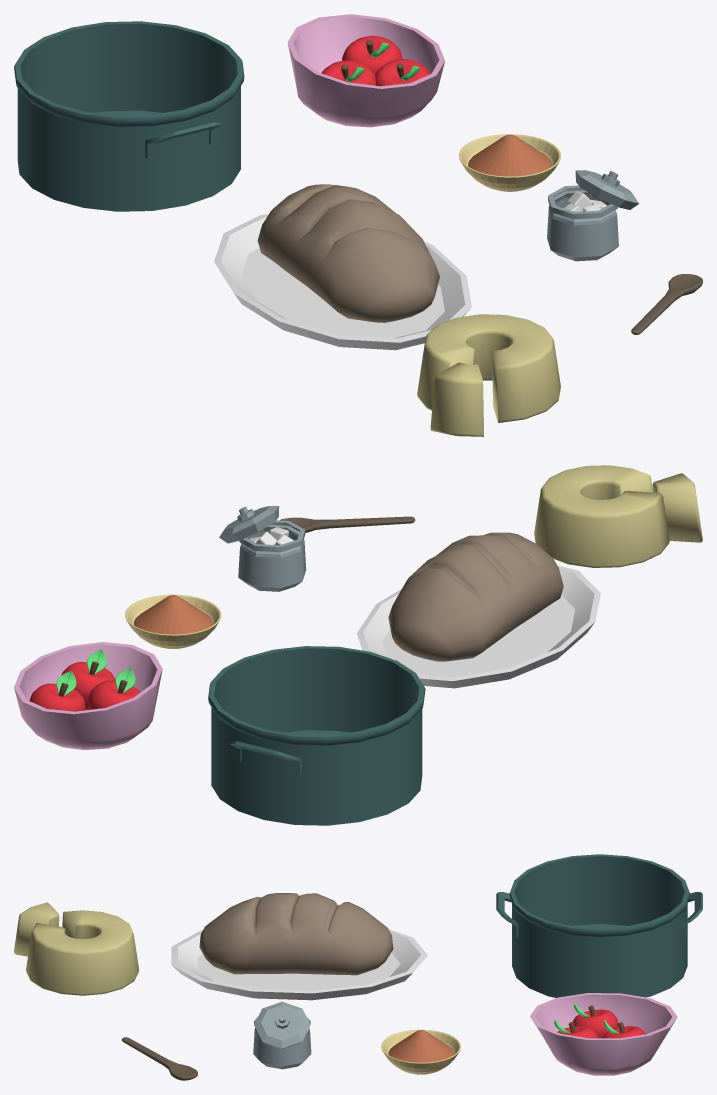
File: Apple_jam_assets.fbx
3 views of the same model, one above another, from view 1: azimuth 30°, elevation 25°; view 2: azimuth 150°, elevation 25°; view 3: azimuth 270°, elevation 25° (orthographic). The views are drawn at different scales.
Parts seen in each view (by area): view 1: Cylinder001, BREAD, CAKE, plates_on_table, Bowl_w_Apples, Cinnamon, polySurface1, Cover, Apple3, Wood_Spoon, Apple1, Apple; view 2: Cylinder001, BREAD, CAKE, plates_on_table, Bowl_w_Apples, Cinnamon, polySurface1, Apple3, Apple1, Apple, Cover, Wood_Spoon; view 3: Cylinder001, BREAD, CAKE, Bowl_w_Apples, plates_on_table, Cinnamon, Cover, polySurface1, Apple, Wood_Spoon, Apple3, Apple1.
Boxes of the visible parts, x1,y1,x2,y2 form: Cylinder001: (14,21,244,211); BREAD: (257,184,439,322); CAKE: (417,314,560,436); plates_on_table: (214,214,471,350); Bowl_w_Apples: (287,14,444,127); Cinnamon: (459,134,560,191); polySurface1: (547,185,618,261); Cover: (575,170,639,209); Apple3: (342,35,402,74); Wood_Spoon: (631,274,702,334); Apple1: (375,59,430,86); Apple: (321,60,375,85); Cylinder001: (208,646,425,825); BREAD: (388,532,563,661); CAKE: (534,465,702,567); plates_on_table: (357,565,600,688); Bowl_w_Apples: (14,642,162,749); Cinnamon: (125,594,221,648); polySurface1: (238,520,306,591); Apple3: (29,670,85,711); Apple1: (61,649,115,709); Apple: (88,668,140,709); Cover: (219,506,279,543); Wood_Spoon: (280,516,415,532); Cylinder001: (496,854,702,997); BREAD: (199,893,393,975); CAKE: (14,902,139,995); Bowl_w_Apples: (530,993,677,1075); plates_on_table: (171,929,427,1000); Cinnamon: (381,1029,460,1074); Cover: (254,1001,310,1049); polySurface1: (253,1016,311,1069); Apple: (572,1003,618,1038); Wood_Spoon: (121,1037,197,1080); Apple3: (602,1020,645,1038); Apple1: (554,1019,598,1038).
Size of the model in its own units: 8.5 by 2.07 by 15.79.
